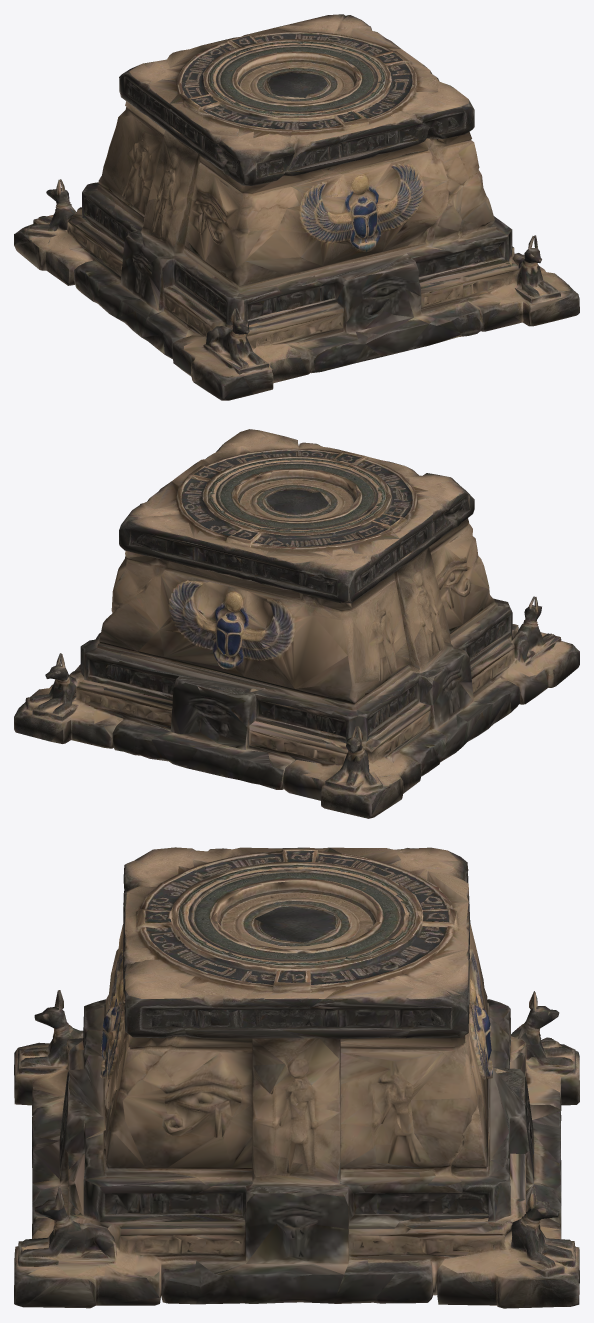
The model's file is altar_dec.glb.
3 views of the same model, one above another, from view 1: azimuth 30°, elevation 25°; view 2: azimuth 150°, elevation 25°; view 3: azimuth 270°, elevation 25° (orthographic). The views are drawn at different scales.
Visible parts, largest first — view 1: Mesh_0; view 2: Mesh_0; view 3: Mesh_0.
Boxes of the visible parts, x1,y1,x2,y2 form: Mesh_0: (14,14,579,400); Mesh_0: (14,429,579,818); Mesh_0: (14,847,579,1308).
Size of the model in its own units: 1.9 by 1.03 by 1.91.
1 material, 1 textured.
